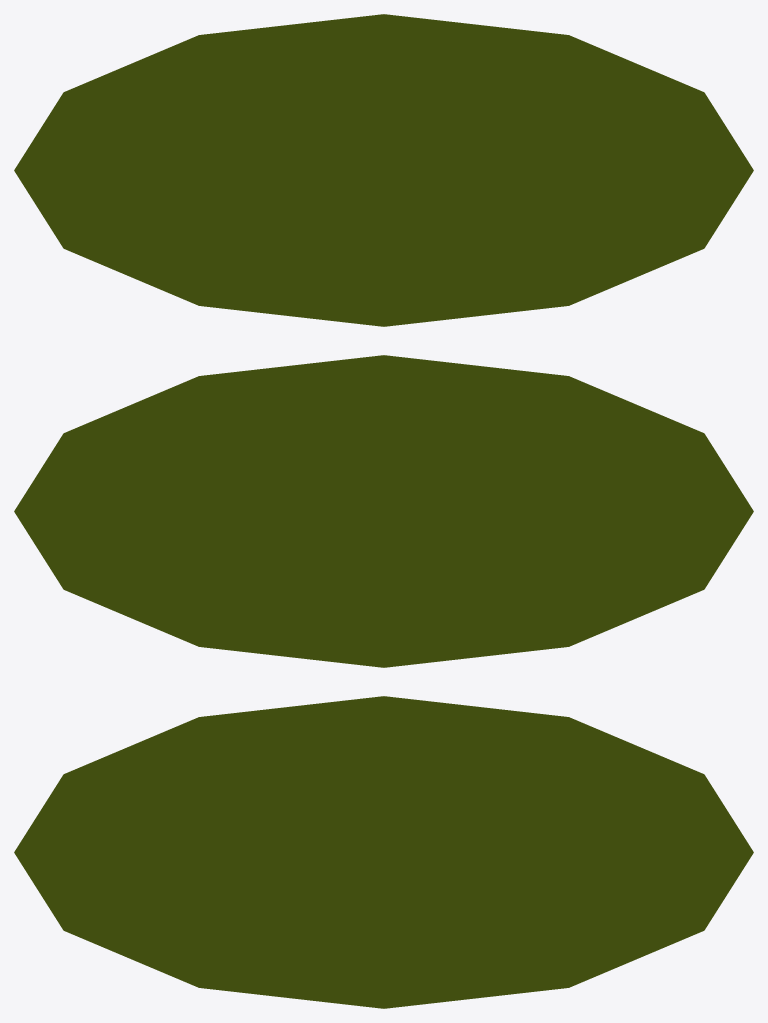
File: Agua_Area_Boss.fbx
3 renders of one model, top to bottom at view 1: azimuth 30°, elevation 25°; view 2: azimuth 150°, elevation 25°; view 3: azimuth 270°, elevation 25°, orthographic.
Visible parts, largest first — view 1: Bos Fight; view 2: Bos Fight; view 3: Bos Fight.
Part boxes in pixels (x1=…): Bos Fight: x1=14, y1=14, x2=753, y2=326; Bos Fight: x1=14, y1=355, x2=753, y2=667; Bos Fight: x1=14, y1=696, x2=753, y2=1008.
Size of the model in its own units: 7784 by 0 by 7784.
